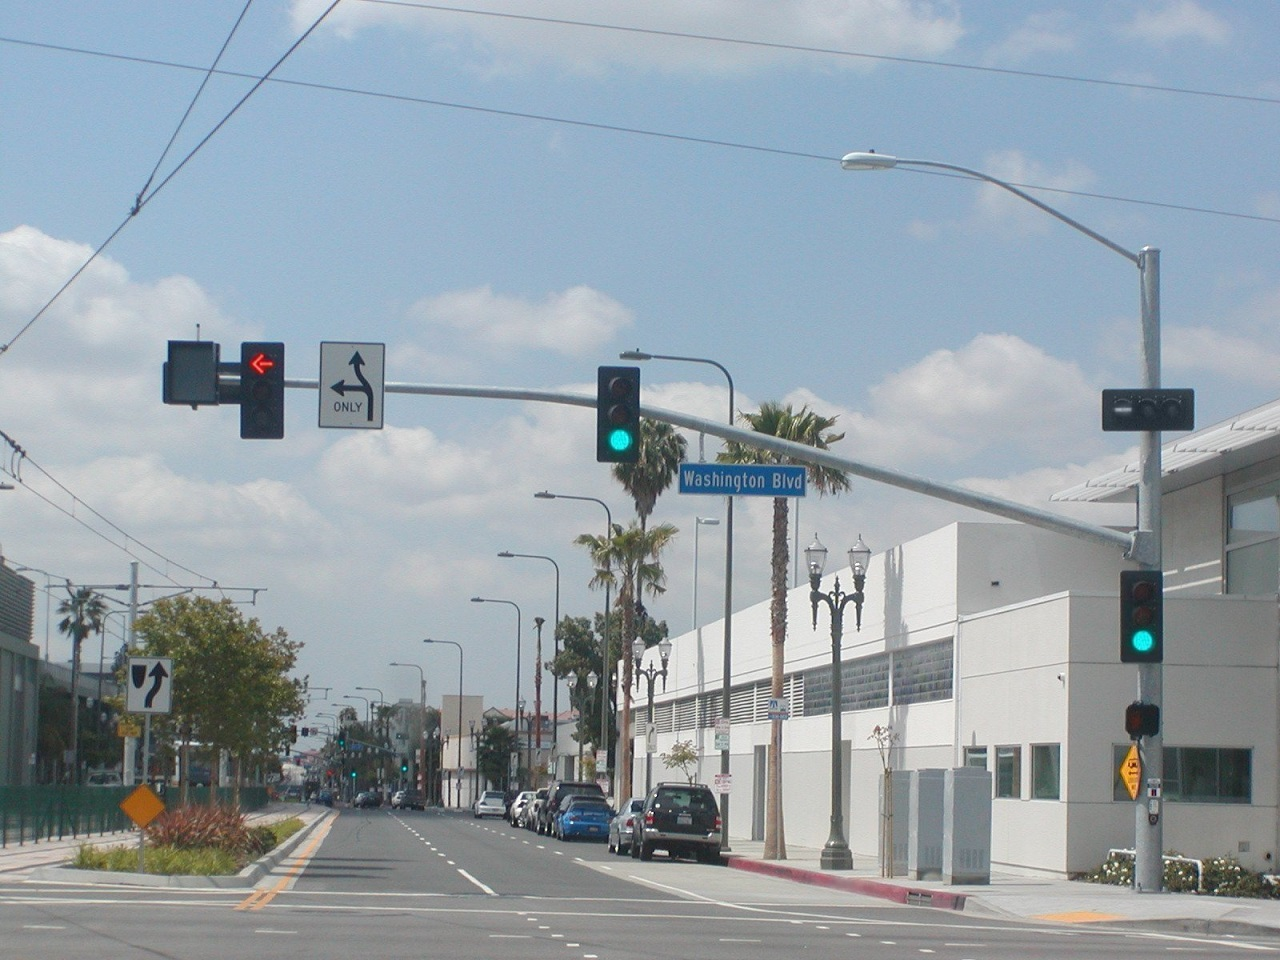traffic_light: (238, 340, 286, 441), (595, 364, 642, 465), (1118, 569, 1165, 665)
